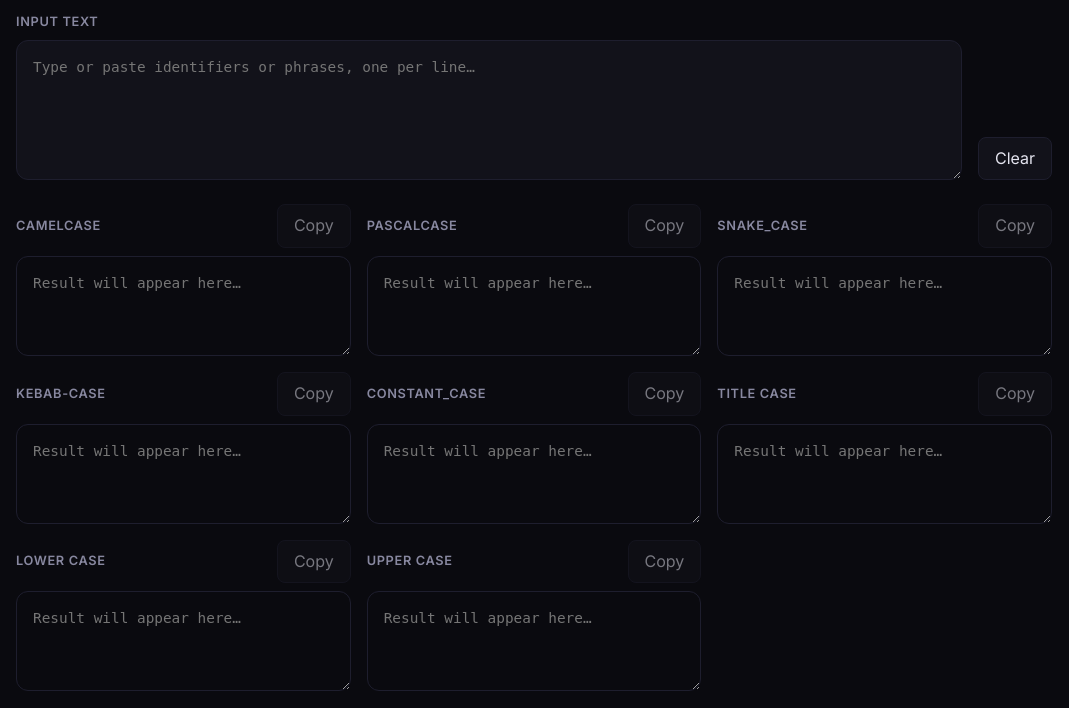
Test case: CaseConverterTool conversion › recognizes acronyms and numeric boundaries
Type "XMLHttpRequest_2" into the text box labelled "Input text".
click(489, 110); type("XMLHttpRequest_2")  # box x1=16 y1=40 x2=962 y2=180
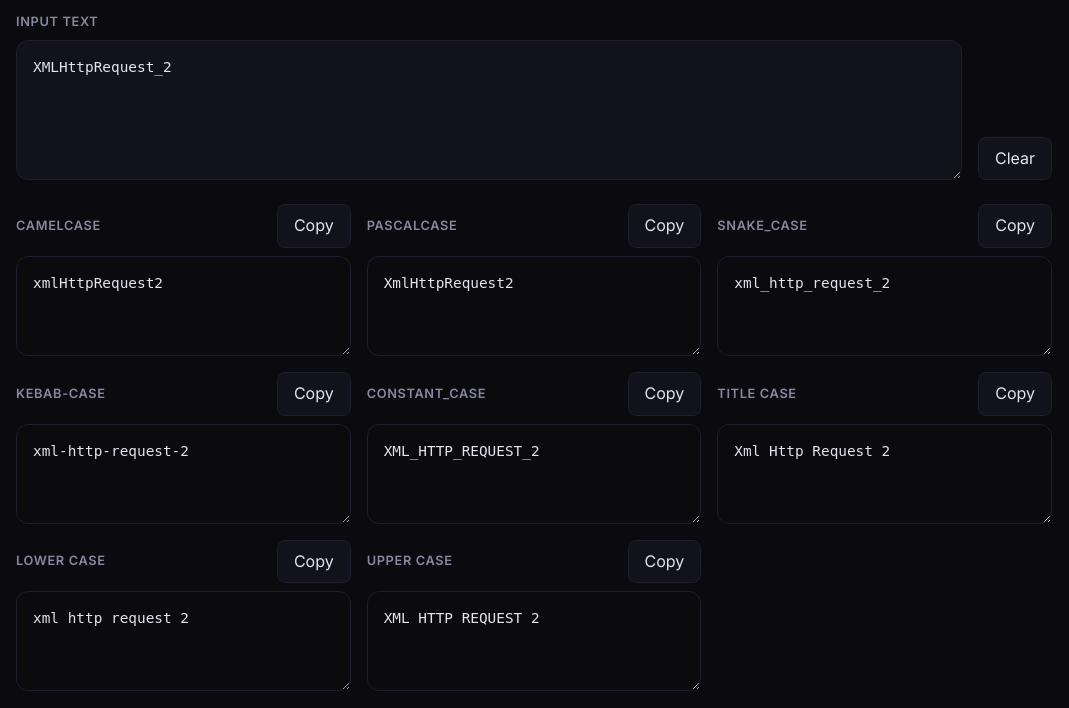
Expected: the text box labelled "snake_case" holds "xml_http_request_2", x1=717 y1=256 x2=1052 y2=356
